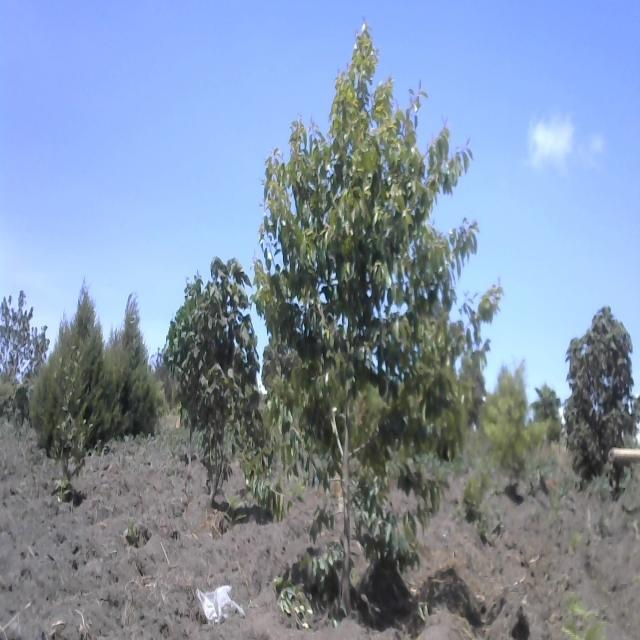Dombeya torrida: (173, 253, 258, 502), (567, 306, 636, 473)
Juniperus procesera: (28, 283, 108, 447), (109, 290, 159, 439)
Olea welwitchii: (260, 25, 486, 622)
